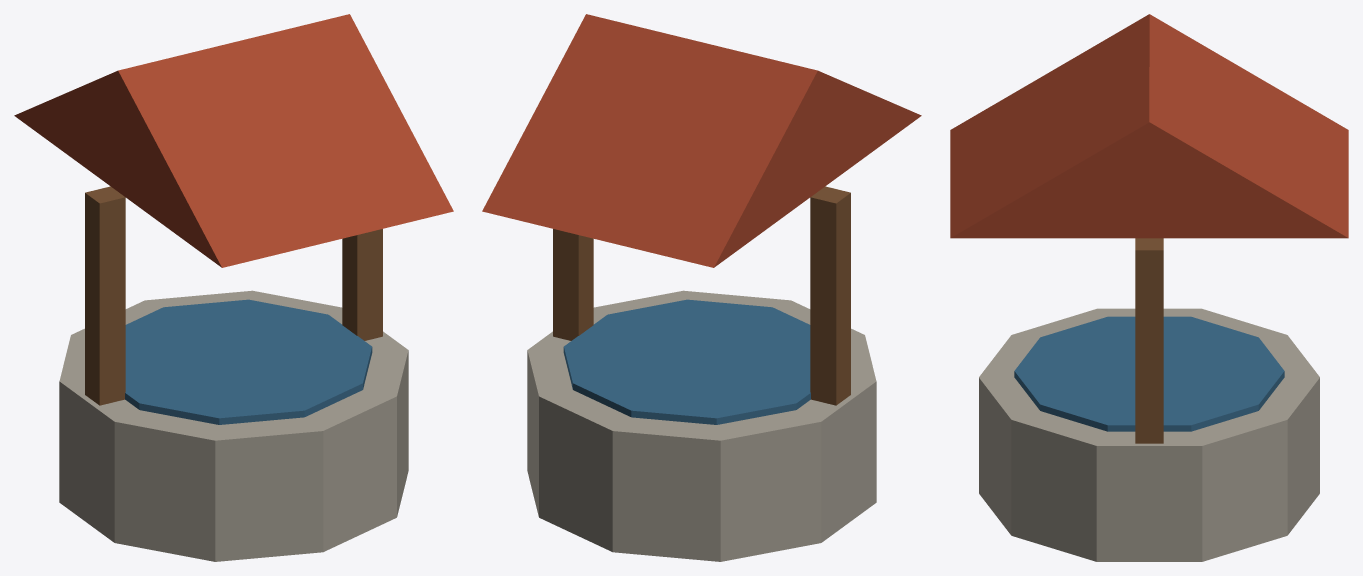
The model's file is well.glb.
3 views of the same model, side by side, from view 1: azimuth 30°, elevation 25°; view 2: azimuth 150°, elevation 25°; view 3: azimuth 270°, elevation 25° (orthographic). The views are drawn at different scales.
Parts seen in each view (by area): view 1: well; view 2: well; view 3: well.
Boxes of the visible parts, bbox=[...] form: well: bbox=[14, 14, 453, 561]; well: bbox=[482, 14, 921, 561]; well: bbox=[950, 14, 1348, 561].
Bounding box in the file's own units: 2.28 × 3.3 × 2.8.
